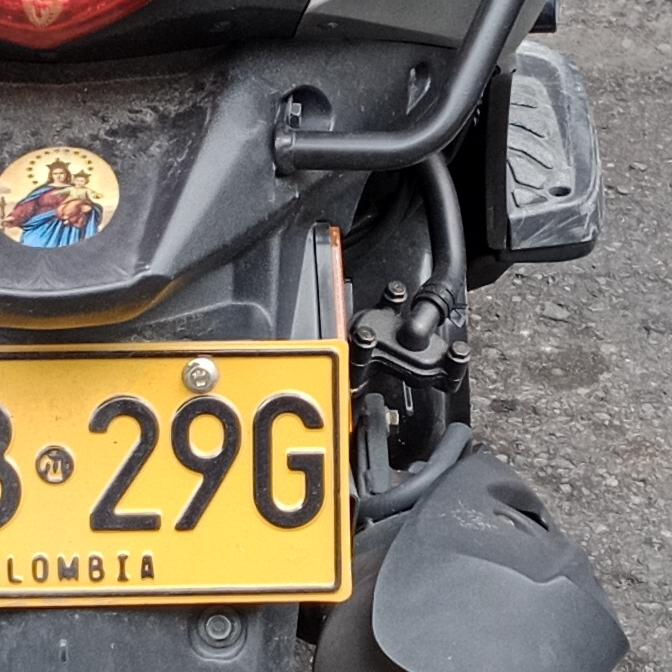plates: (0, 341, 360, 616)
